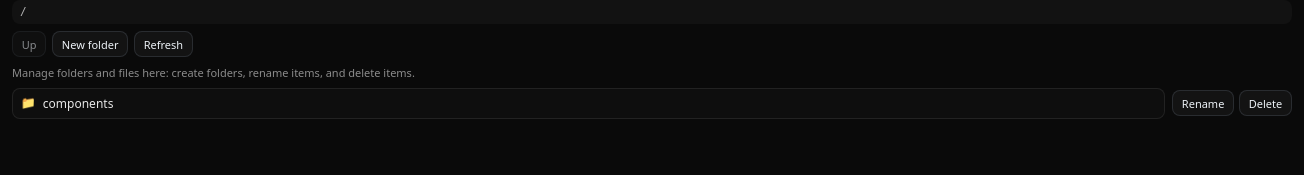
Test: WorkspaceFilePanel - Folder Operations Unit Tests › Folder selection navigates into folder (Requirement 4.1, 4.2, 4.3) › should update path display when navigating into folder
This screenshot has width=1304, height=175.
Step 1. Click the text "components" → (78, 103), box 43,95 -> 113,112
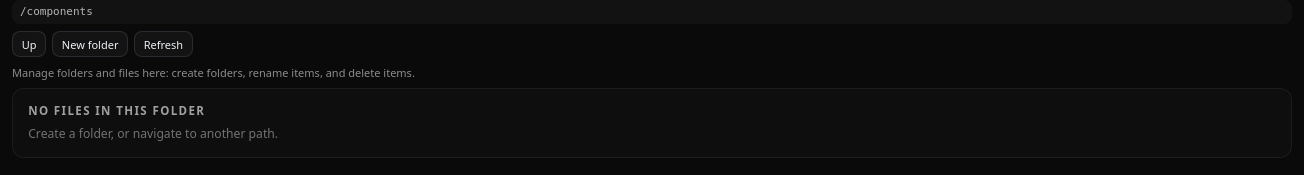
expect the text "/components" is shown: met, box 12,0 -> 1292,24
